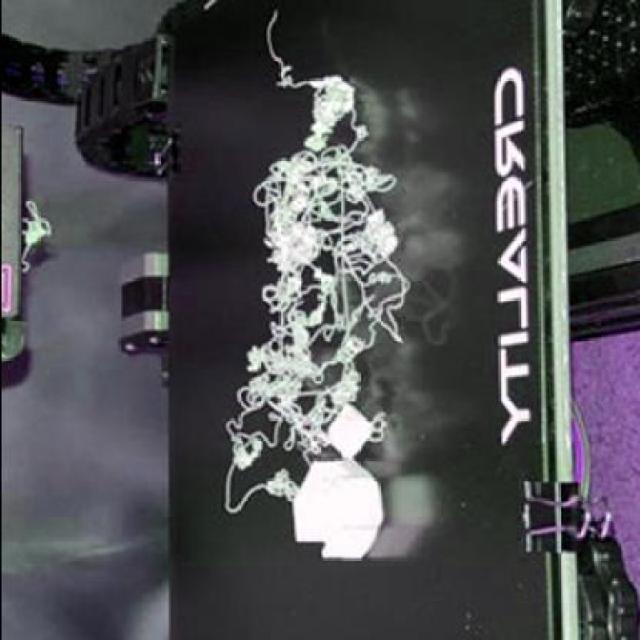Spaghetti: (218, 69, 407, 513), (15, 197, 50, 271), (262, 8, 292, 88)
